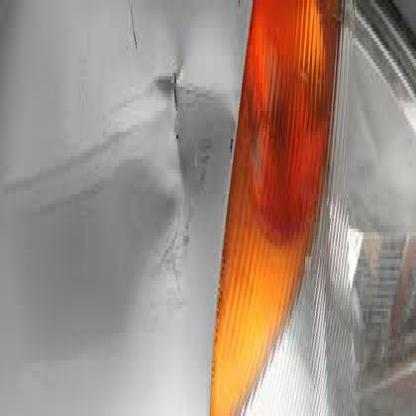dent: (132, 43, 222, 300)
